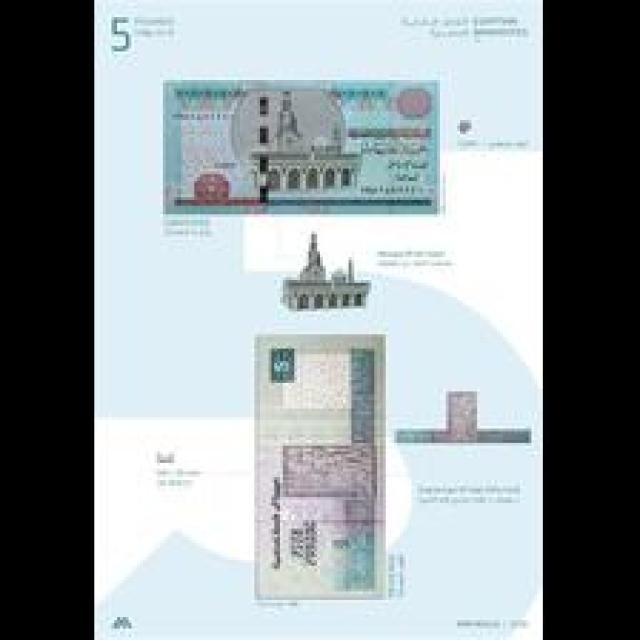banknote: (164, 75, 440, 217), (250, 332, 384, 595)
